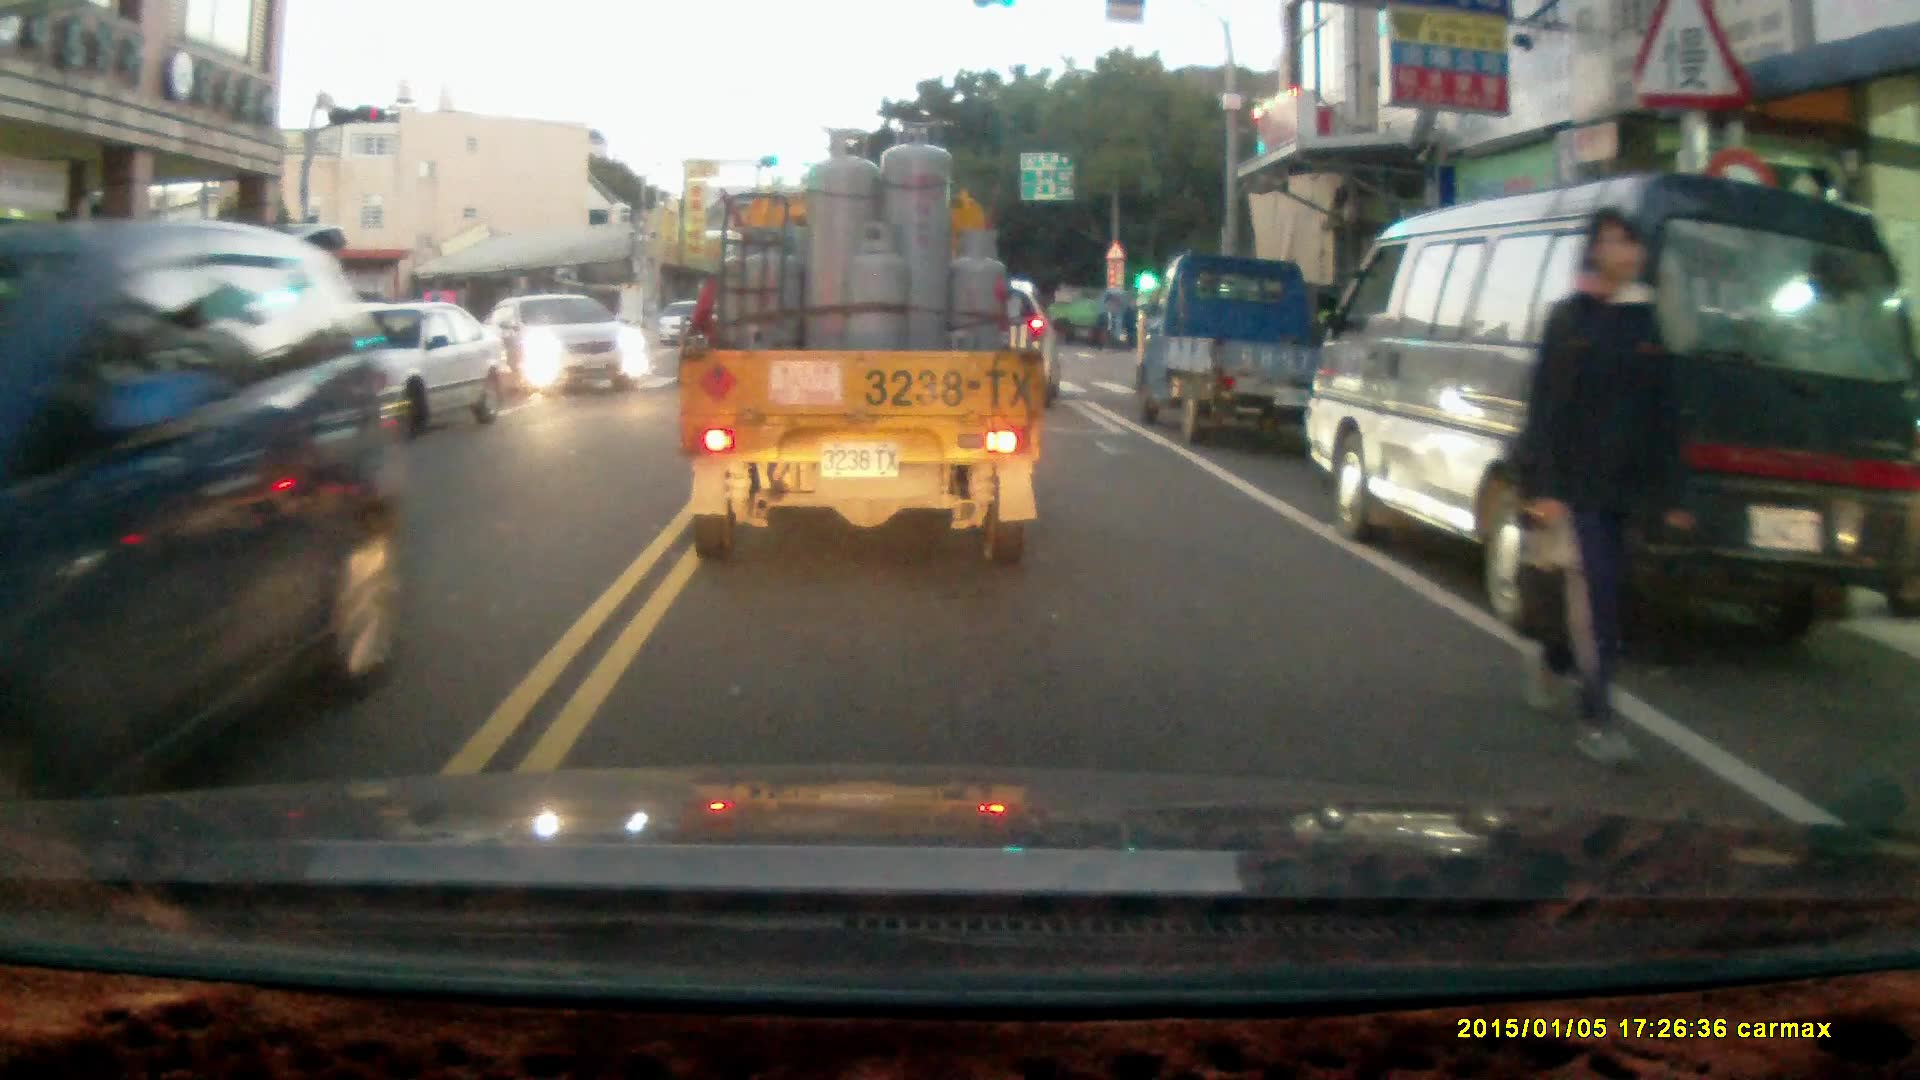pedestrian: (1522, 203, 1688, 774)
vehicle: (1304, 170, 1893, 650), (1, 217, 419, 826), (678, 124, 1048, 569), (238, 299, 512, 449), (1137, 250, 1332, 443), (893, 268, 1066, 410), (491, 294, 647, 398)
